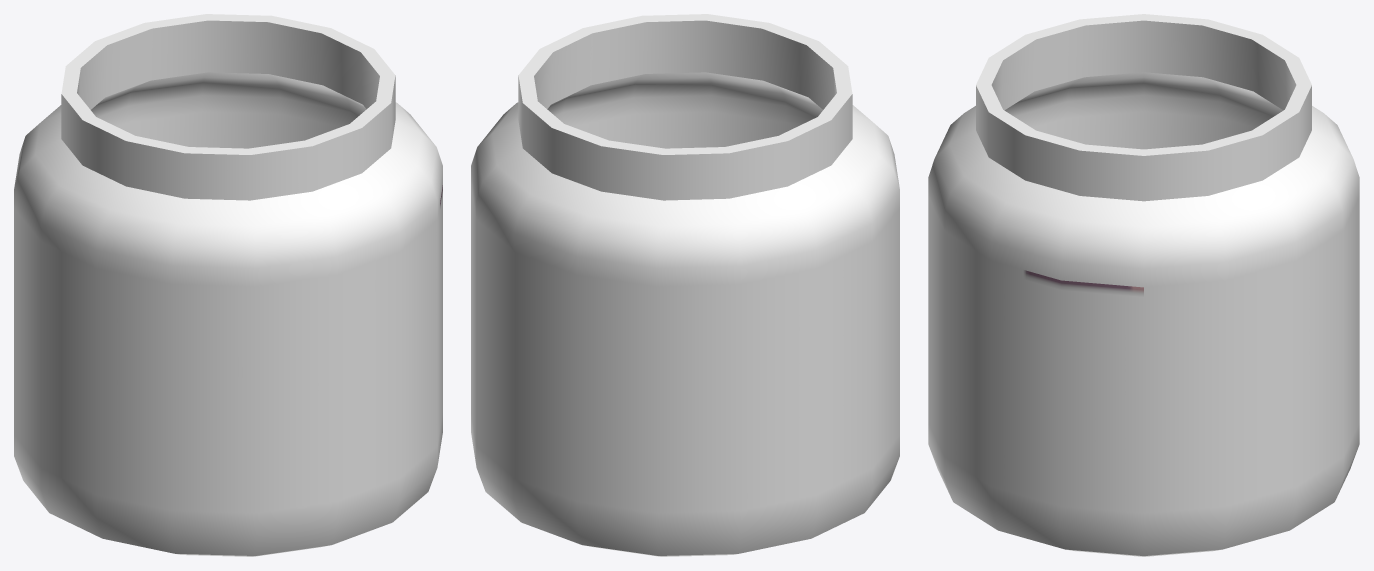
Rendered from coconut_scream_1.fbx.
The picture shows the model from 3 angles, left to right: view 1: azimuth 30°, elevation 25°; view 2: azimuth 150°, elevation 25°; view 3: azimuth 270°, elevation 25°; orthographic projection.
Visible parts, largest first — view 1: coconut_scream_1; view 2: coconut_scream_1; view 3: coconut_scream_1.
Boxes of the visible parts, x1,y1,x2,y2 form: coconut_scream_1: (14, 14, 442, 556); coconut_scream_1: (471, 14, 899, 556); coconut_scream_1: (928, 14, 1359, 556).
Size of the model in its own units: 271 by 273 by 271.
